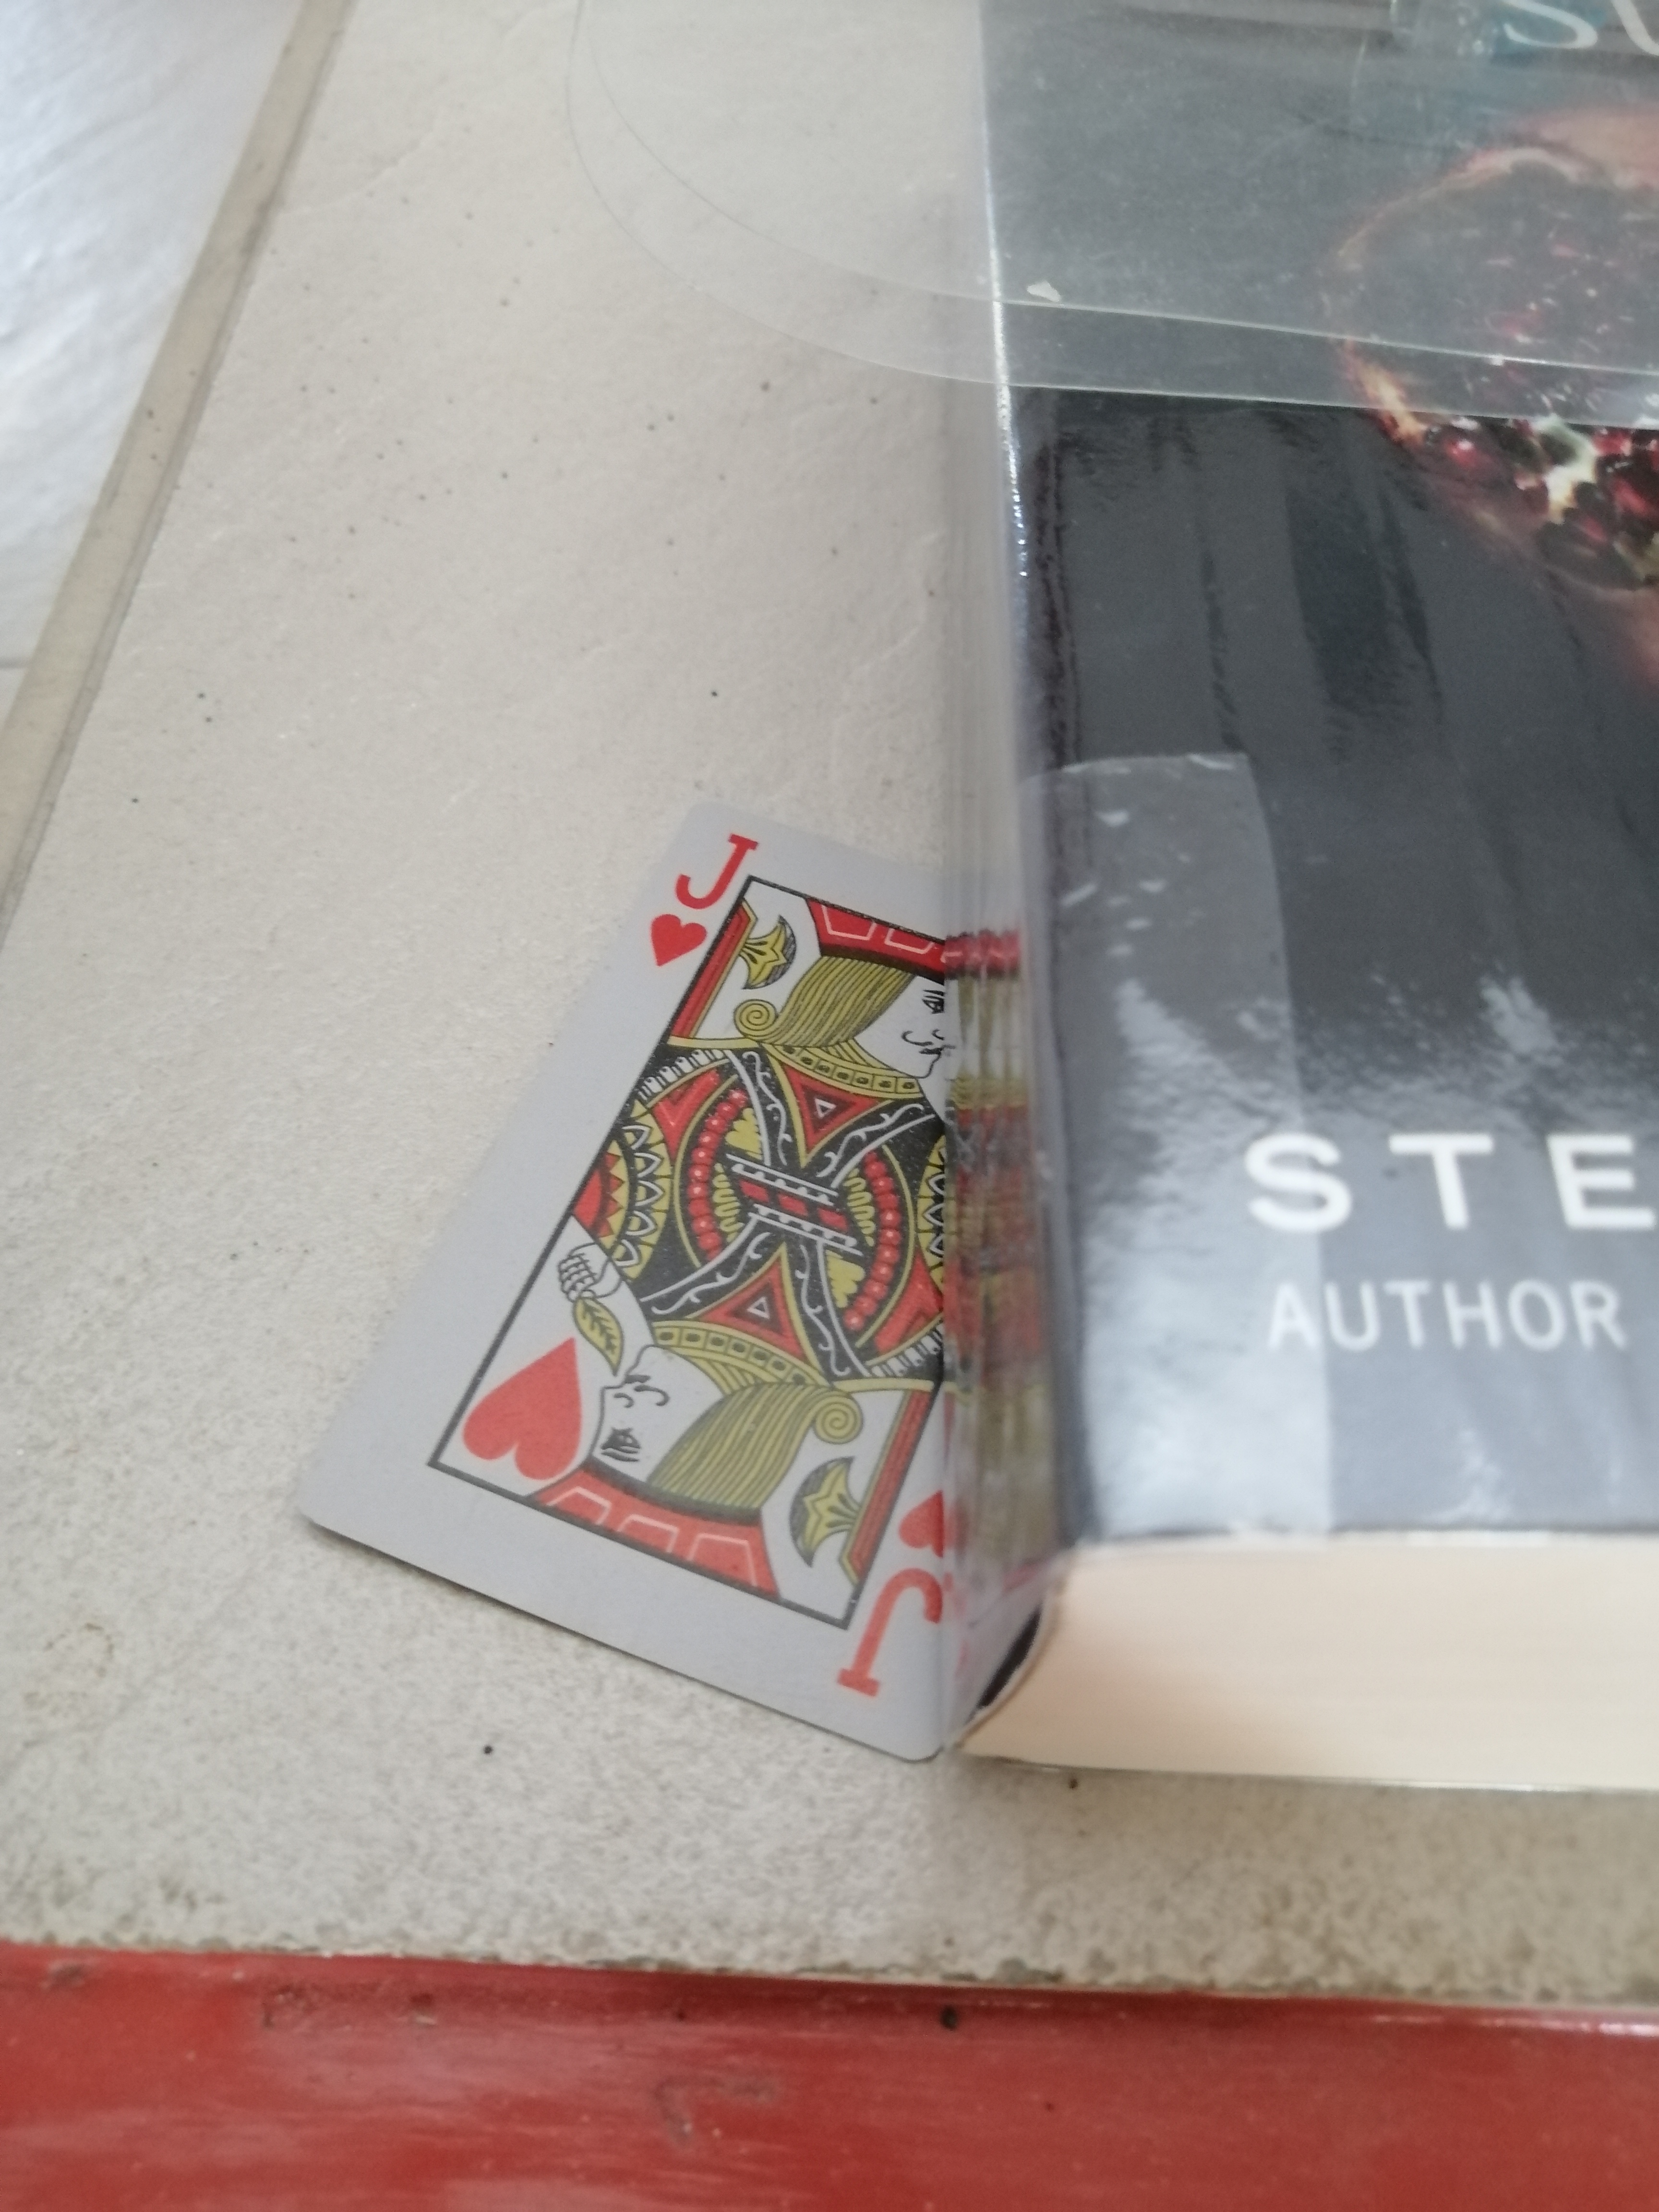jack: (317, 791, 1049, 1757)
